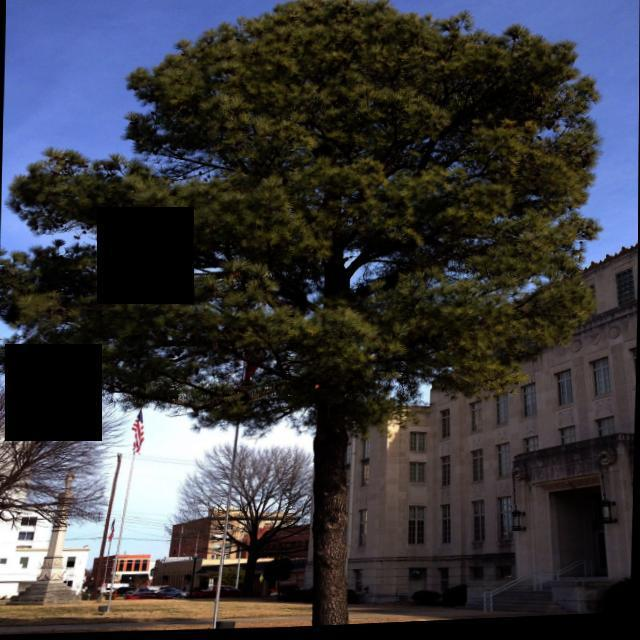tree: (0, 0, 605, 640), (182, 436, 310, 602), (0, 370, 109, 545)
